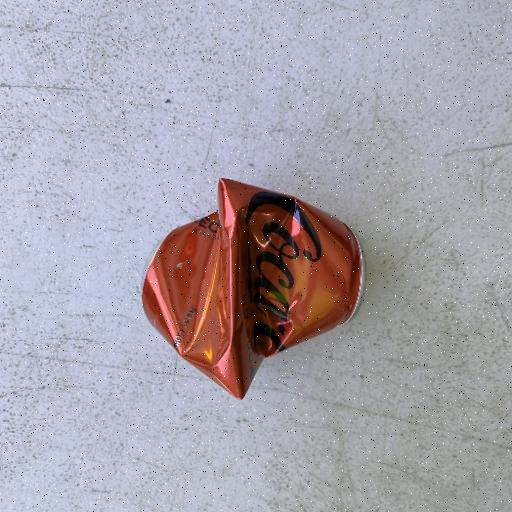Metal: (139, 175, 367, 401)
